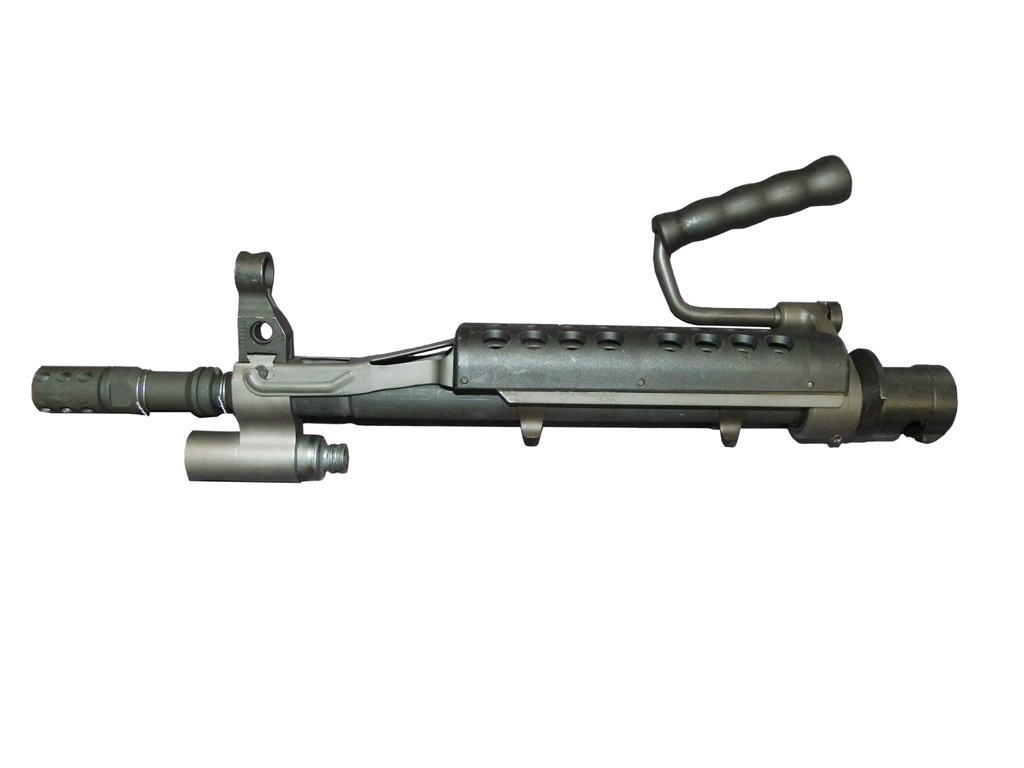Rifle: (29, 223, 977, 554)
